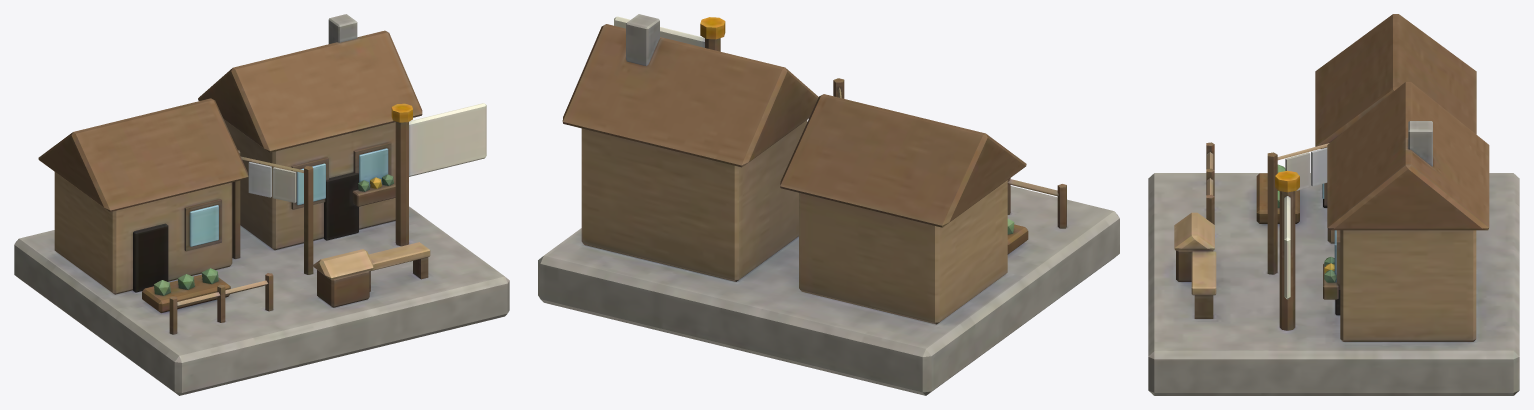
Rendered from shelters-5.glb.
3 views of the same model, side by side, from view 1: azimuth 30°, elevation 25°; view 2: azimuth 150°, elevation 25°; view 3: azimuth 270°, elevation 25° (orthographic). The views are drawn at different scales.
Visible parts, largest first — view 1: shelters-5; view 2: shelters-5; view 3: shelters-5.
Boxes of the visible parts, left/top/right/bottom form: shelters-5: left=14, top=14, right=509, bottom=395; shelters-5: left=538, top=14, right=1119, bottom=395; shelters-5: left=1148, top=14, right=1519, bottom=395.
Bounding box in the file's own units: 1.55 × 0.88 × 1.2.
1 material, 1 textured.
